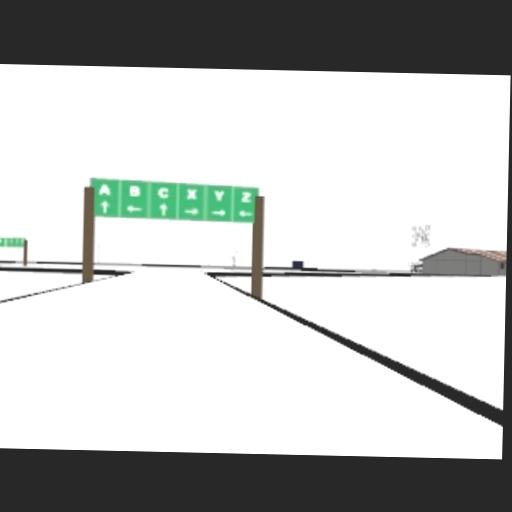A: (97, 183, 108, 194)
B: (129, 185, 140, 197)
C: (157, 186, 168, 197)
Left: (125, 205, 144, 213), (239, 210, 252, 217)
Right: (183, 207, 199, 216), (211, 208, 226, 216)
Straight: (159, 202, 168, 215), (101, 201, 110, 214), (8, 236, 16, 244), (2, 238, 9, 245), (0, 236, 3, 244)
X: (186, 188, 196, 198)
Y: (214, 189, 224, 201)
Z: (240, 191, 250, 202)
